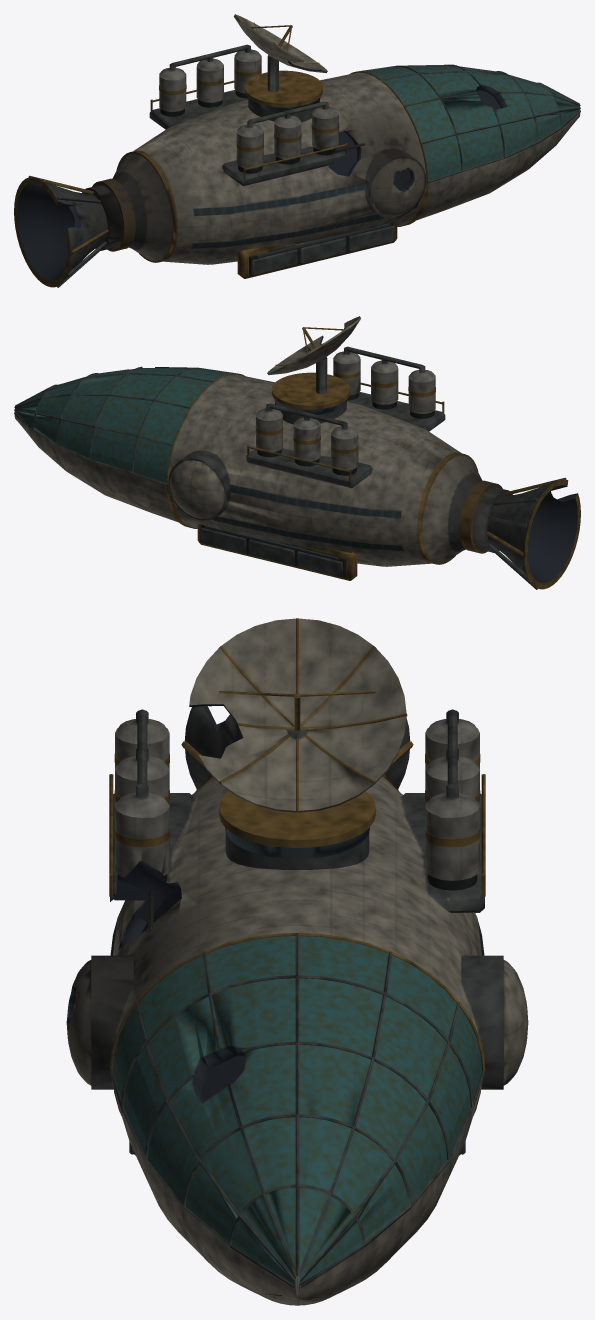
File: seed-wrecked.glb
3 renders of one model, top to bottom at view 1: azimuth 30°, elevation 25°; view 2: azimuth 150°, elevation 25°; view 3: azimuth 270°, elevation 25°, orthographic. The views are drawn at different scales.
Visible parts, largest first — view 1: seed-wrecked; view 2: seed-wrecked; view 3: seed-wrecked.
Boxes of the visible parts, left/top/right/bottom form: seed-wrecked: left=14, top=14, right=580, bottom=287; seed-wrecked: left=14, top=316, right=580, bottom=589; seed-wrecked: left=66, top=618, right=528, bottom=1305.
Size of the model in its own units: 1 by 0.4107 by 0.3717.
1 material, 1 textured.
